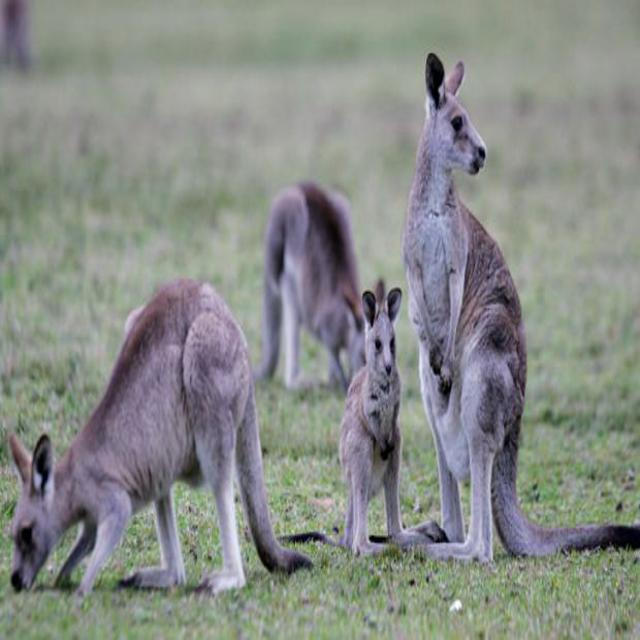kangaroo: (1, 281, 304, 605), (408, 51, 537, 554), (258, 179, 366, 369), (330, 285, 407, 536)
